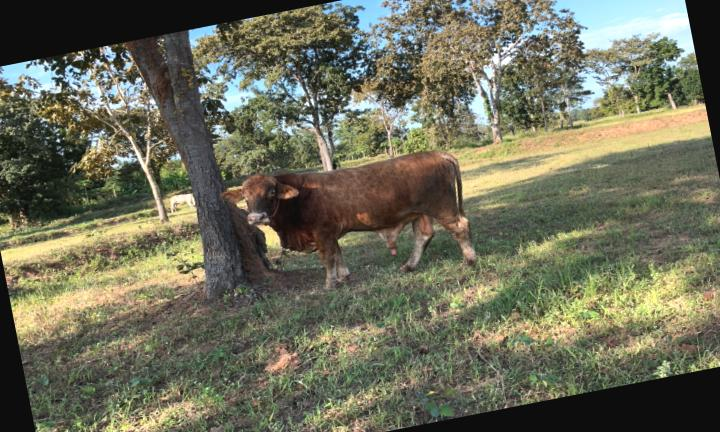Charolais: (220, 150, 475, 287)
